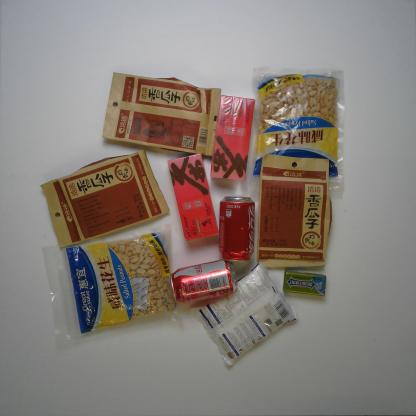Dried Food: (40, 149, 171, 249), (100, 71, 222, 159), (257, 152, 333, 270)
Dried Fruit: (41, 226, 181, 345), (250, 64, 346, 202)
Drink: (169, 256, 239, 304), (216, 194, 256, 262)
Gum: (282, 270, 328, 298)
Instant Drink: (166, 151, 221, 244), (209, 93, 257, 182)
Seasoner: (188, 261, 298, 368)
